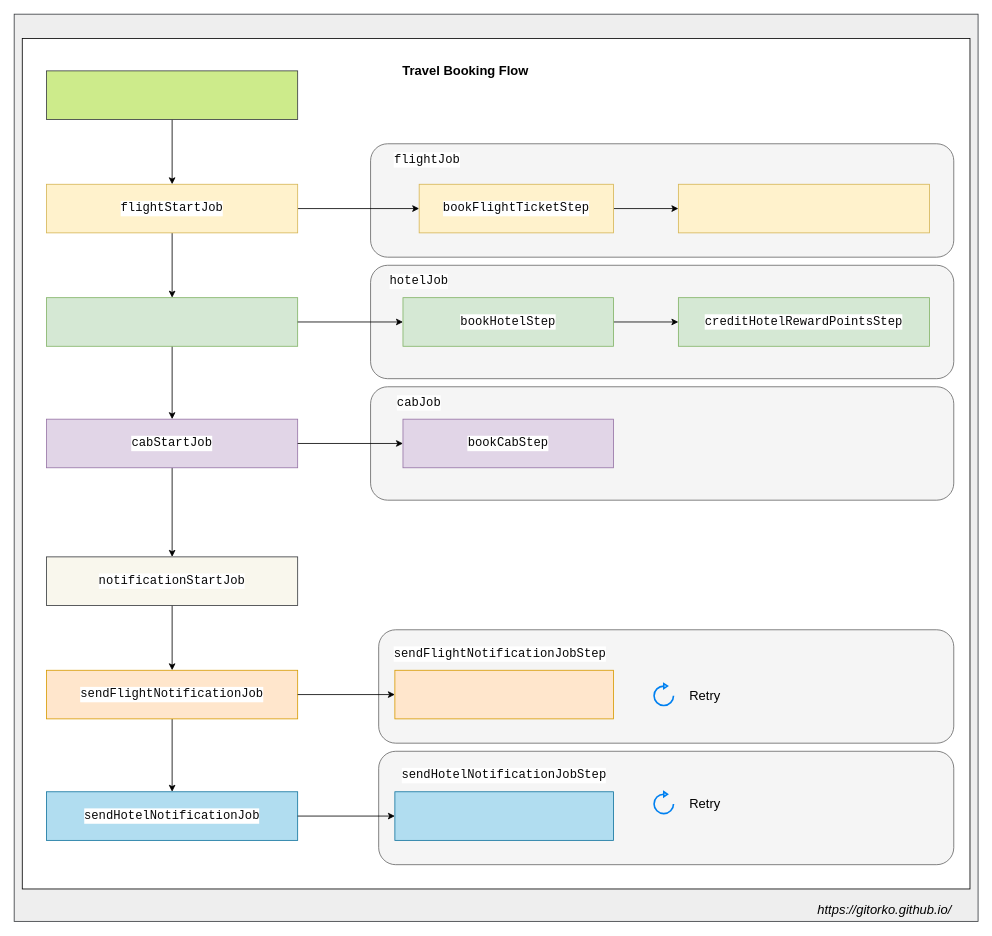
Image size: 992x936. Some labels were removed from this diagram. The centre of each missing label's shape, as x and y in pixels:
creditFlightRewardPointsStep: (x=803, y=208)
hotelStartJob: (x=172, y=321)
mainJob: (x=172, y=94)
sendFlightNotificationStep: (x=504, y=694)
sendHotelNotificationStep: (x=504, y=815)
